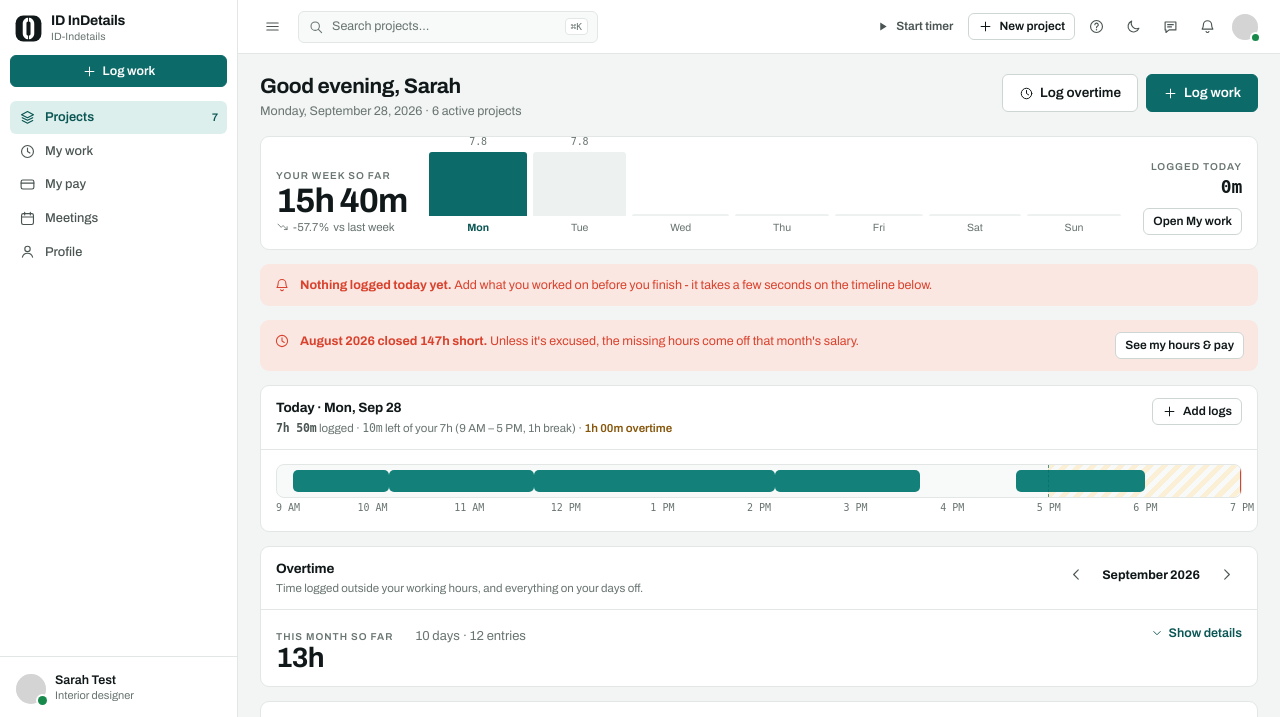
Test case: the Design employee home › offers New project to an employee given project:create, and opens it on their own page
Click the button "New project" at (1022, 26), box [968,13,1075,40]
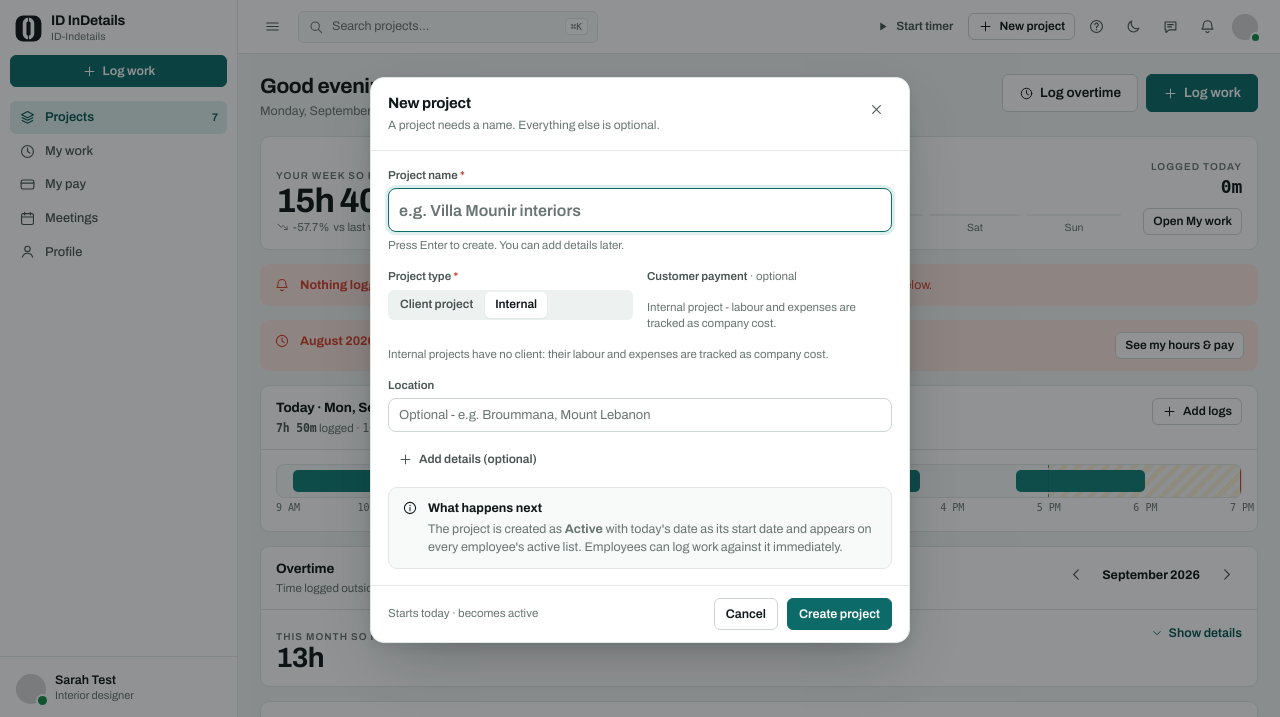
Expected: the heading "Good evening, Sarah" is shown, [260,75,461,97]
Expected: the dialog "New project" is shown, [370,77,910,643]
